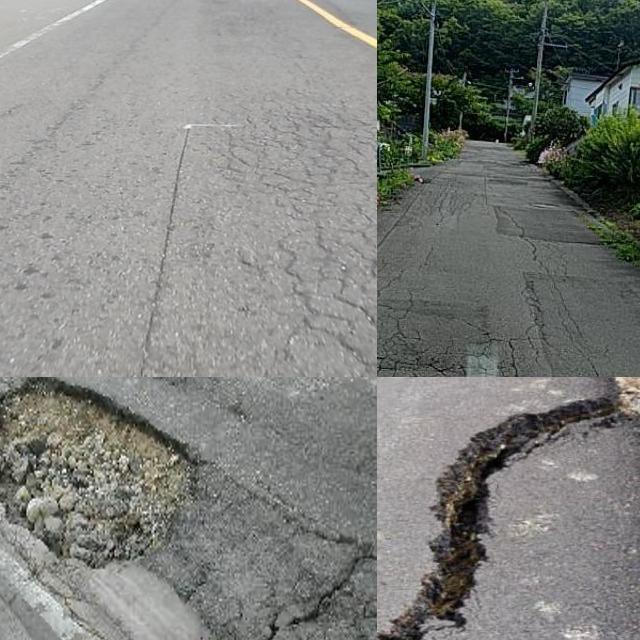Lubang: (0, 381, 204, 561)
Pinggir: (381, 394, 640, 640)
Retak Buaya: (193, 94, 377, 377)
